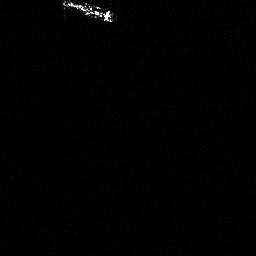ship: (59, 1, 121, 23)
